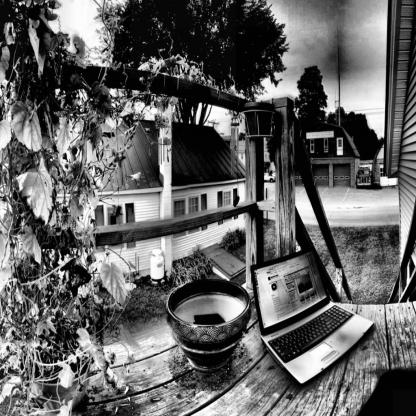board: (250, 248, 375, 386)
